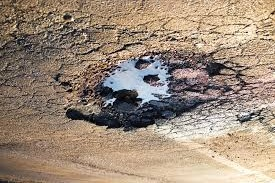pothole: (58, 39, 235, 133), (236, 106, 251, 125)
